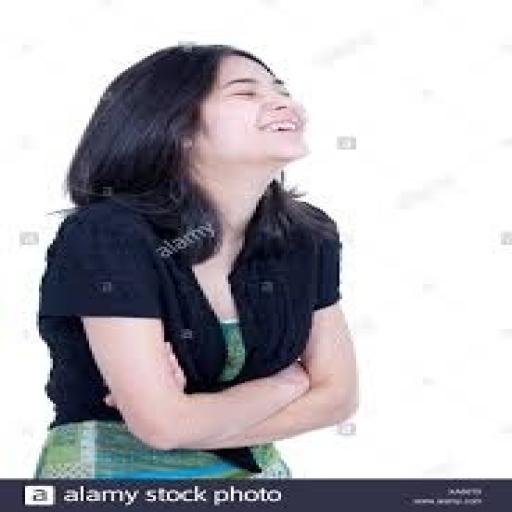laughing: (31, 37, 370, 475)
